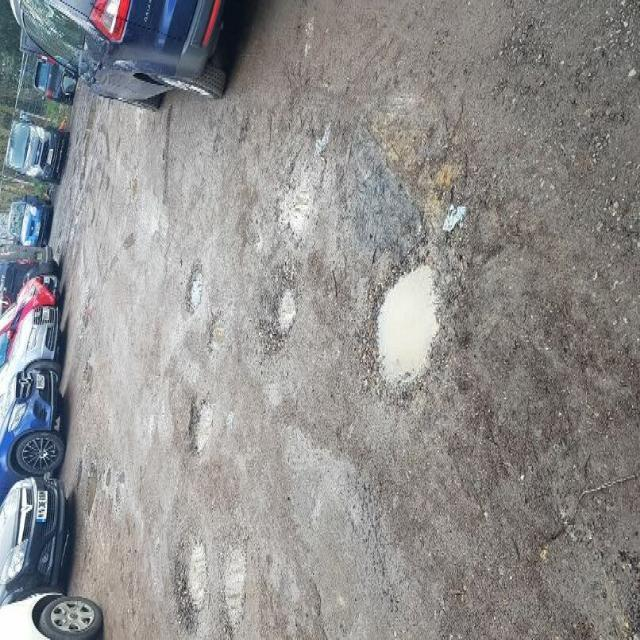pothole: (364, 242, 442, 398), (258, 254, 302, 354), (171, 524, 213, 624), (216, 524, 252, 638), (184, 385, 214, 452), (184, 258, 204, 312)
